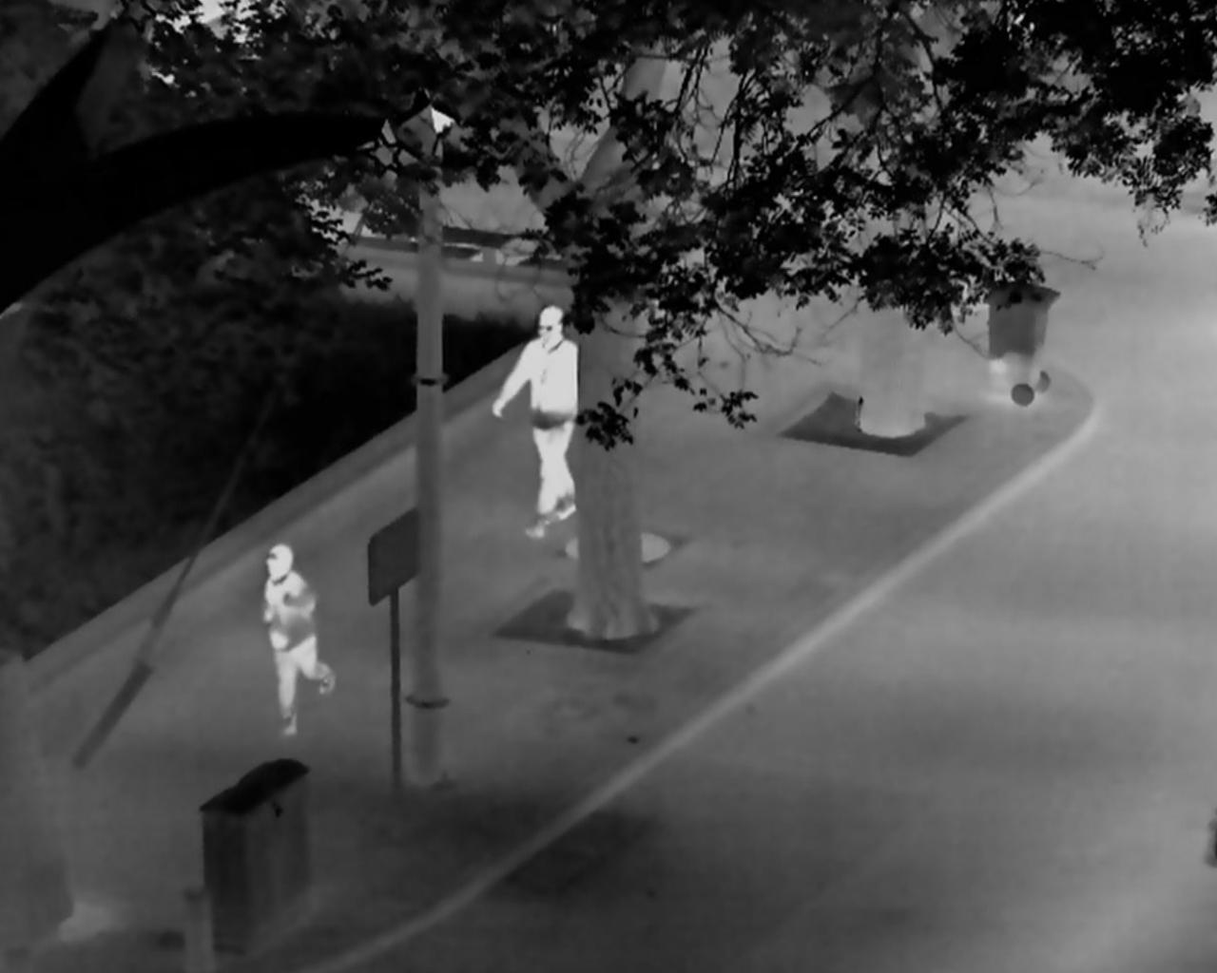person: (492, 303, 578, 541), (262, 544, 338, 734)
